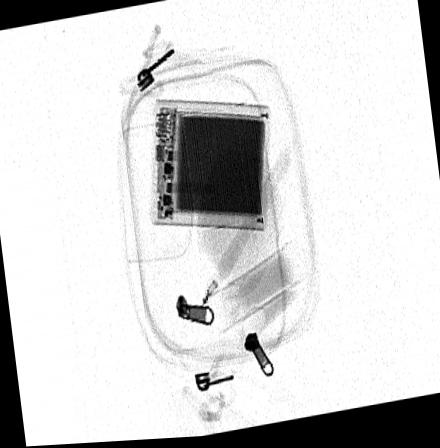Powerbank: (150, 101, 269, 235)
